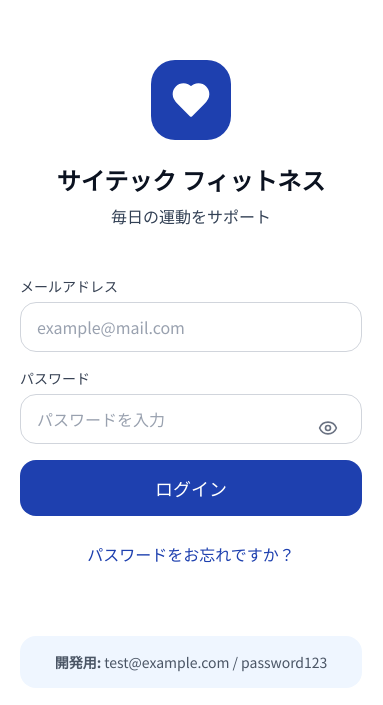
U-01 Login › form validation › should show error when password is empty on submit
Type "test@example.com" into the field labelled "メールアドレス" at [191, 327], box [20,302,362,352]
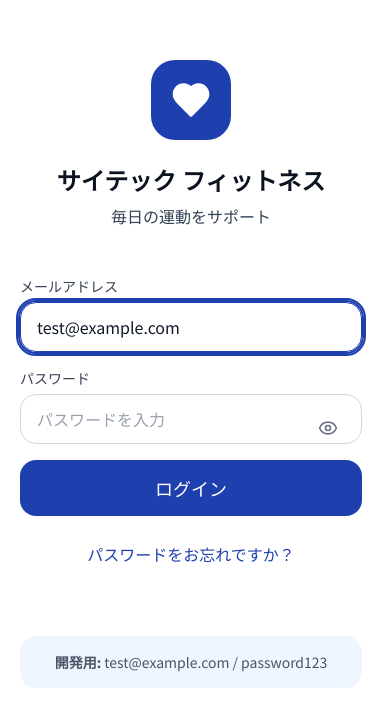
Click the button "ログイン" at [191, 488], box [20,460,362,516]
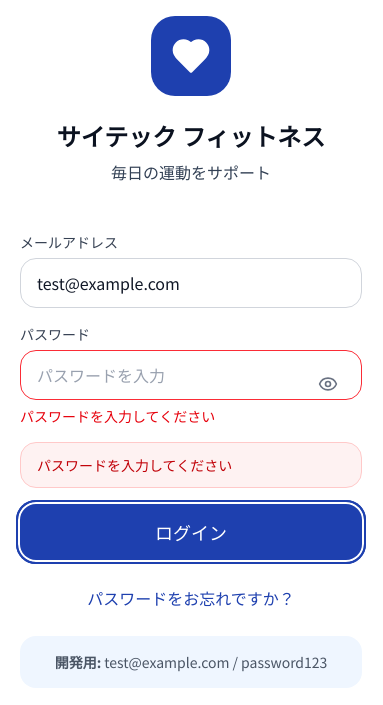
Check: the 1st text "パスワードを入力してください" is shown, box [20,406,215,426]
